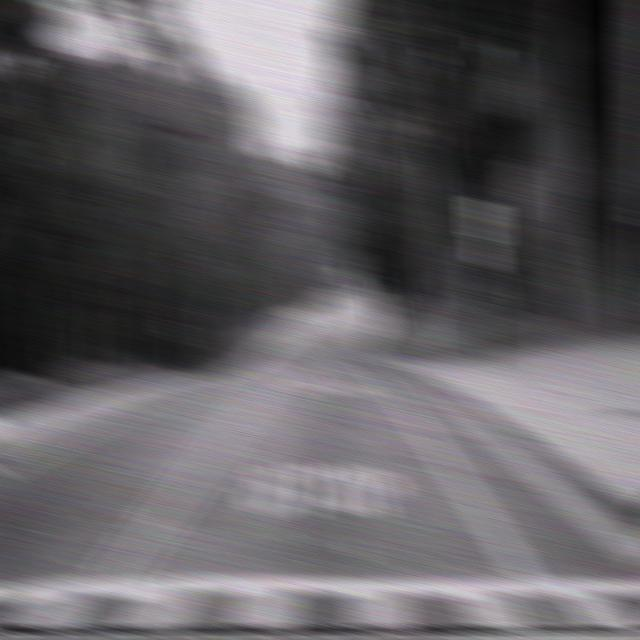speedLimit35: (468, 196, 501, 243)
